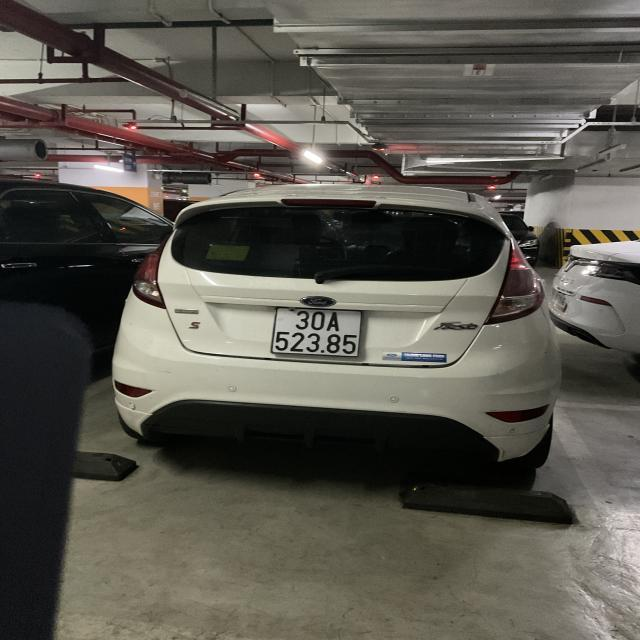license: (270, 306, 361, 358)
